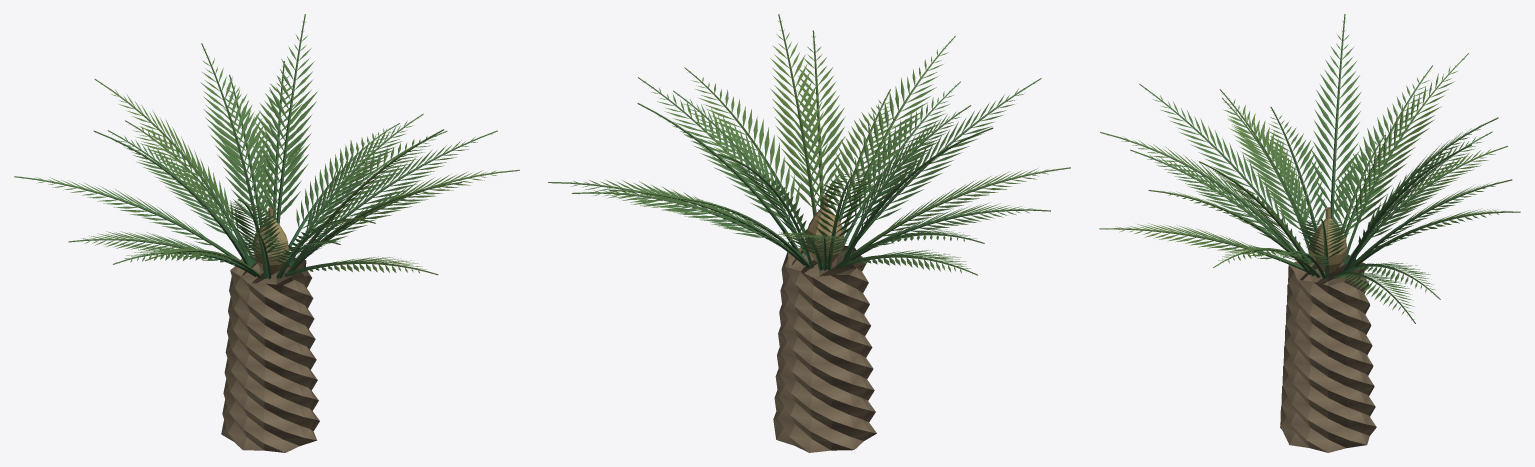
File: cycad_b.glb
The picture shows the model from 3 angles, left to right: view 1: azimuth 30°, elevation 25°; view 2: azimuth 150°, elevation 25°; view 3: azimuth 270°, elevation 25°; orthographic projection. The views are drawn at different scales.
Visible parts, largest first — view 1: cycad_b; view 2: cycad_b; view 3: cycad_b.
Part boxes in pixels (bbox=[...]): cycad_b: bbox=[14, 14, 519, 452]; cycad_b: bbox=[548, 14, 1070, 452]; cycad_b: bbox=[1099, 14, 1520, 452].
Size of the model in its own units: 3.3 by 2.53 by 2.85.
